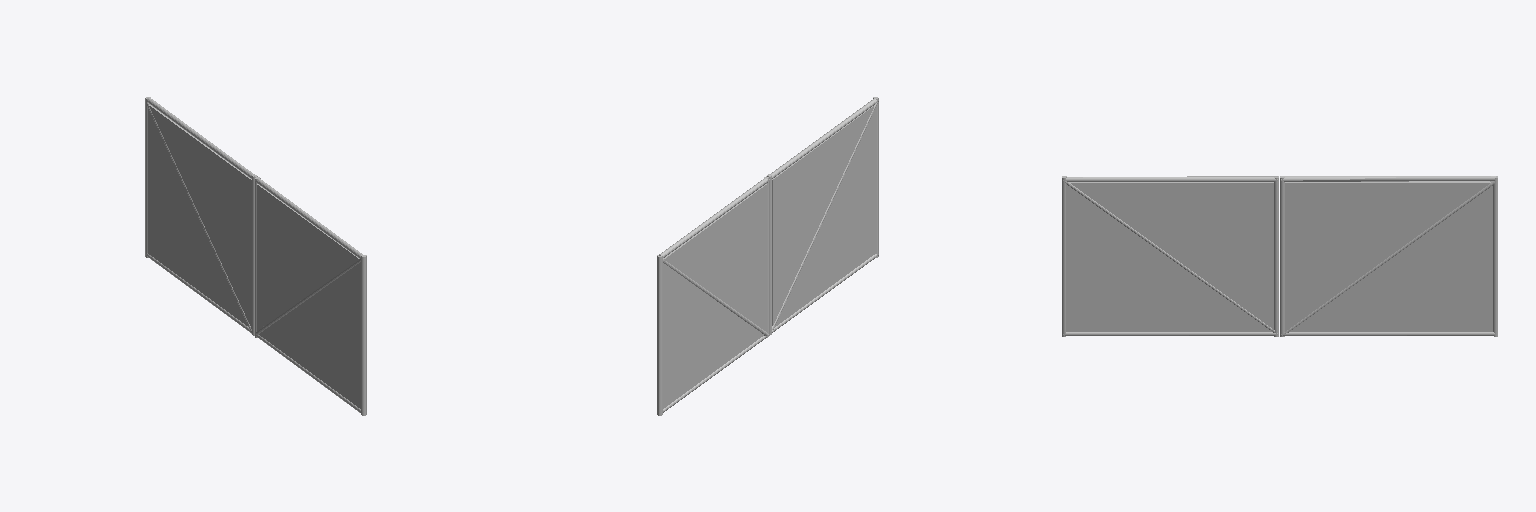
File: valla_exterior.obj
3 views of the same model, side by side, from view 1: azimuth 30°, elevation 25°; view 2: azimuth 150°, elevation 25°; view 3: azimuth 270°, elevation 25° (orthographic).
Parts seen in each view (by area): view 1: Cube_Cube.001, Cube.002_Cube.003, Cylinder001.011_Untitled.084, Cylinder001.003_Untitled.003, Cylinder001.006_Untitled.006; view 2: Cube.002_Cube.003, Cube_Cube.001, Cylinder001.002_Untitled.002, Cylinder001.003_Untitled.003, Cylinder001.006_Untitled.006; view 3: Cube_Cube.001, Cube.002_Cube.003, Cylinder001.003_Untitled.003, Cylinder001.006_Untitled.006, Cylinder001.005_Untitled.005, Cylinder001.004_Untitled.004, Cylinder001.001_Untitled.001, Cylinder001.000_Untitled.000, Cylinder001.002_Untitled.002, Cylinder001.008_Untitled.008, Cylinder001.007_Untitled.007, Cylinder001.011_Untitled.084.
Part boxes in pixels (bbox=[...]): Cube_Cube.001: bbox=[148, 105, 251, 328]; Cube.002_Cube.003: bbox=[257, 184, 360, 408]; Cylinder001.011_Untitled.084: bbox=[361, 255, 366, 415]; Cylinder001.003_Untitled.003: bbox=[146, 97, 255, 178]; Cylinder001.006_Untitled.006: bbox=[255, 177, 362, 258]; Cube.002_Cube.003: bbox=[772, 105, 876, 327]; Cube_Cube.001: bbox=[663, 184, 766, 408]; Cylinder001.002_Untitled.002: bbox=[657, 255, 662, 415]; Cylinder001.003_Untitled.003: bbox=[659, 177, 769, 257]; Cylinder001.006_Untitled.006: bbox=[768, 99, 878, 178]; Cube_Cube.001: bbox=[1285, 181, 1492, 331]; Cube.002_Cube.003: bbox=[1066, 182, 1273, 331]; Cylinder001.003_Untitled.003: bbox=[1281, 176, 1495, 181]; Cylinder001.006_Untitled.006: bbox=[1063, 176, 1277, 181]; Cylinder001.005_Untitled.005: bbox=[1063, 332, 1277, 335]; Cylinder001.004_Untitled.004: bbox=[1281, 332, 1495, 335]; Cylinder001.001_Untitled.001: bbox=[1280, 176, 1284, 336]; Cylinder001.000_Untitled.000: bbox=[1274, 176, 1278, 336]; Cylinder001.002_Untitled.002: bbox=[1493, 176, 1497, 336]; Cylinder001.008_Untitled.008: bbox=[1284, 181, 1494, 333]; Cylinder001.007_Untitled.007: bbox=[1065, 181, 1274, 332]; Cylinder001.011_Untitled.084: bbox=[1062, 176, 1066, 336].
Bounding box in the file's own units: 0.2593 × 8.06 × 19.93.